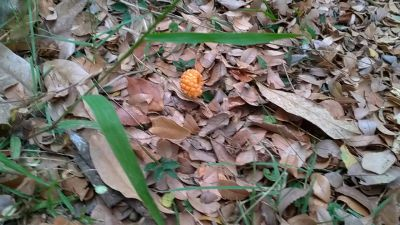eggs: (177, 65, 205, 99)
